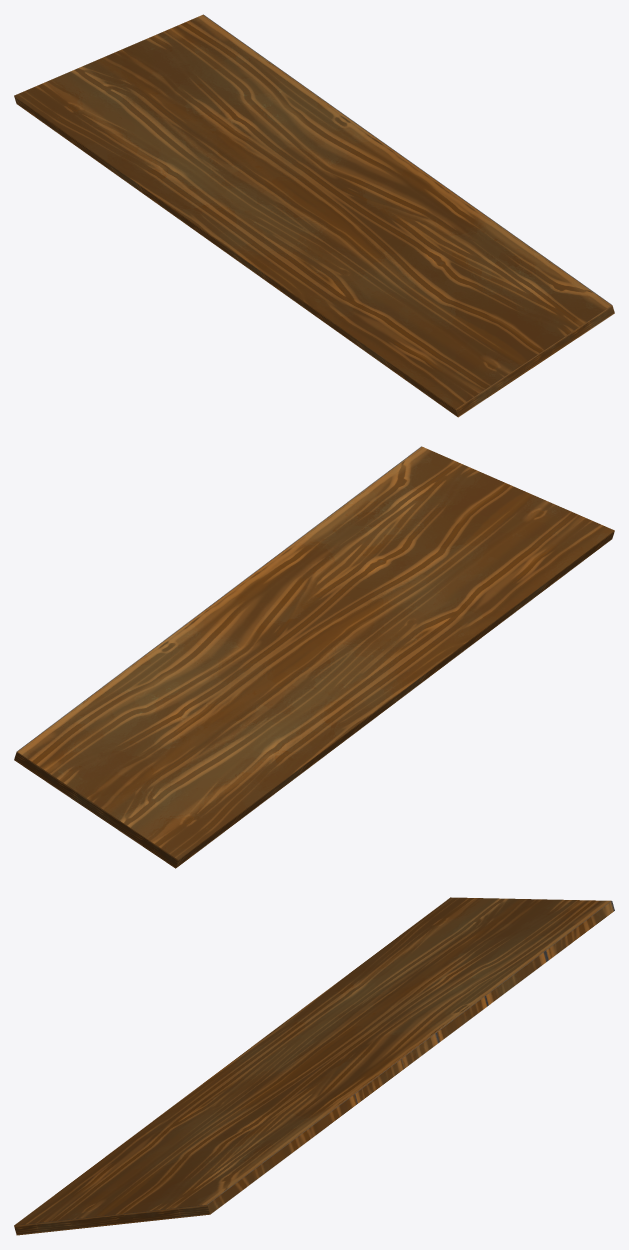
3 views of the same model, one above another, from view 1: azimuth 30°, elevation 25°; view 2: azimuth 150°, elevation 25°; view 3: azimuth 330°, elevation 25° (orthographic). The views are drawn at different scales.
Visible parts, largest first — view 1: Cube.925; view 2: Cube.925; view 3: Cube.925.
Boxes of the visible parts, x1=… form: Cube.925: x1=14, y1=14, x2=614, y2=417; Cube.925: x1=14, y1=446, x2=614, y2=868; Cube.925: x1=14, y1=897, x2=614, y2=1235.
Size of the model in its own units: 287 by 90.32 by 1169.
1 material, 1 textured.
